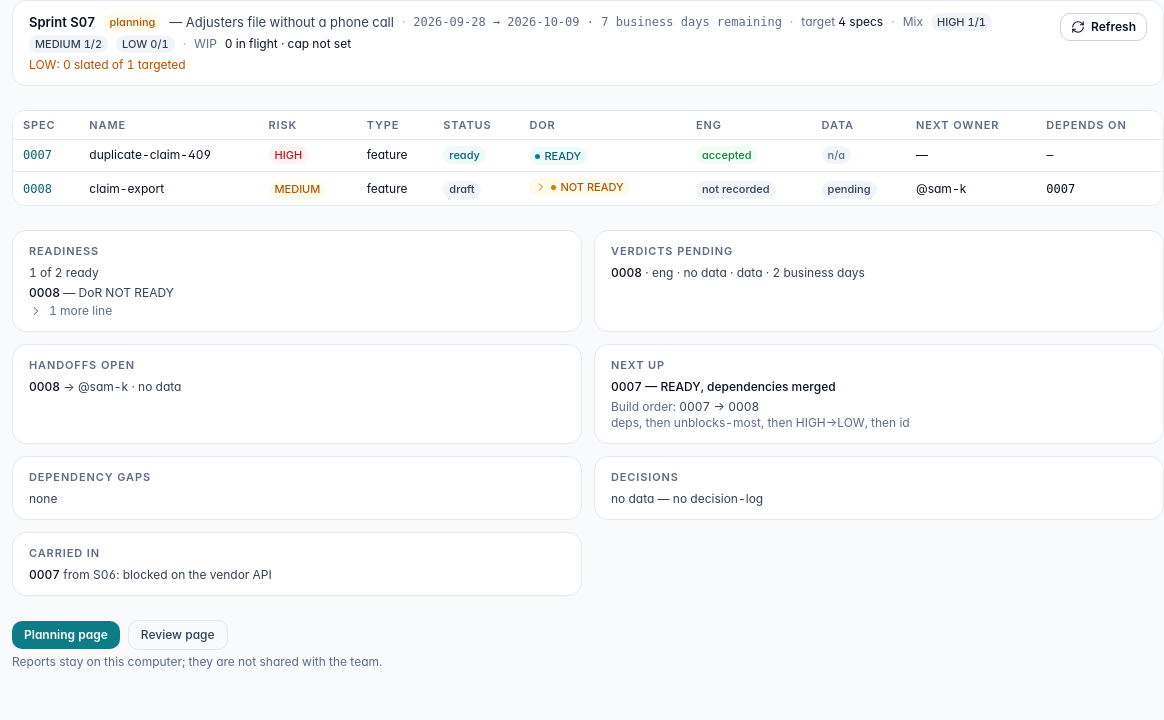
Scenario: SprintBoard: the two pages › Planning page writes the planning page for THIS sprint, then opens what the plugin wrote
expect the element with test id "sprint-pages" is shown: met, box [12,620,382,668]
Click the button "Planning page": (66, 634) [12,620,120,648]
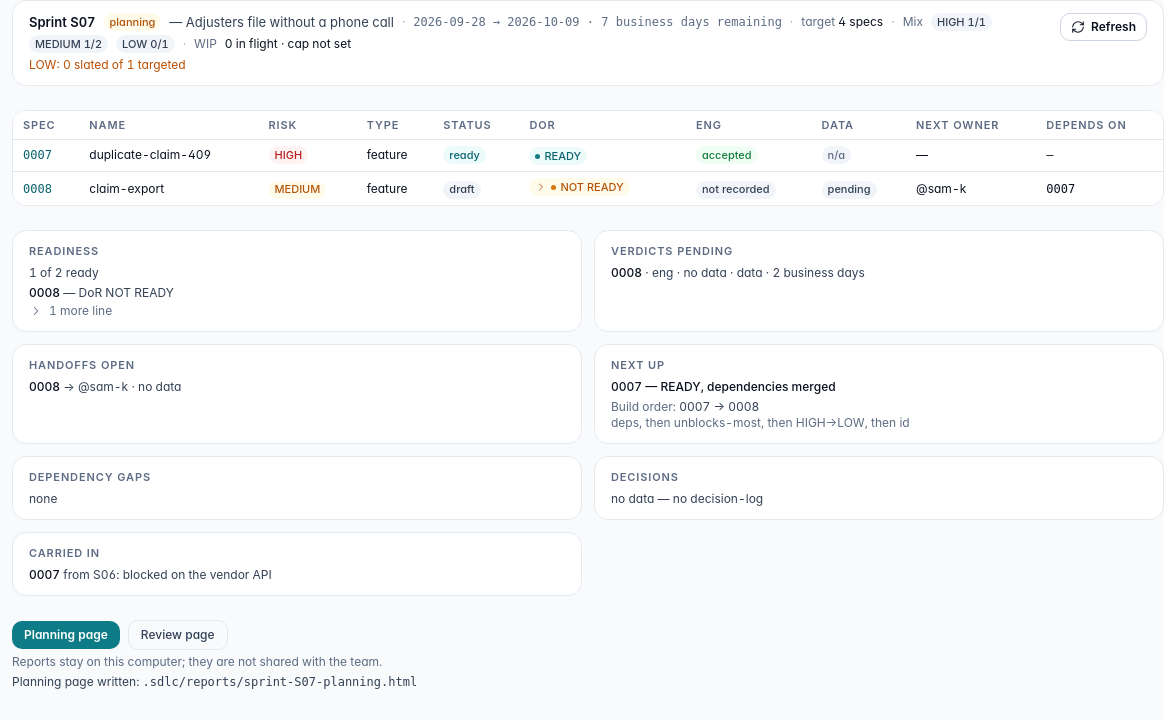
expect the element with test id "sprint-page-result" reads "Planning page written: .sdlc/reports/sprint-S07-planning.html": met, box [12,674,417,688]
